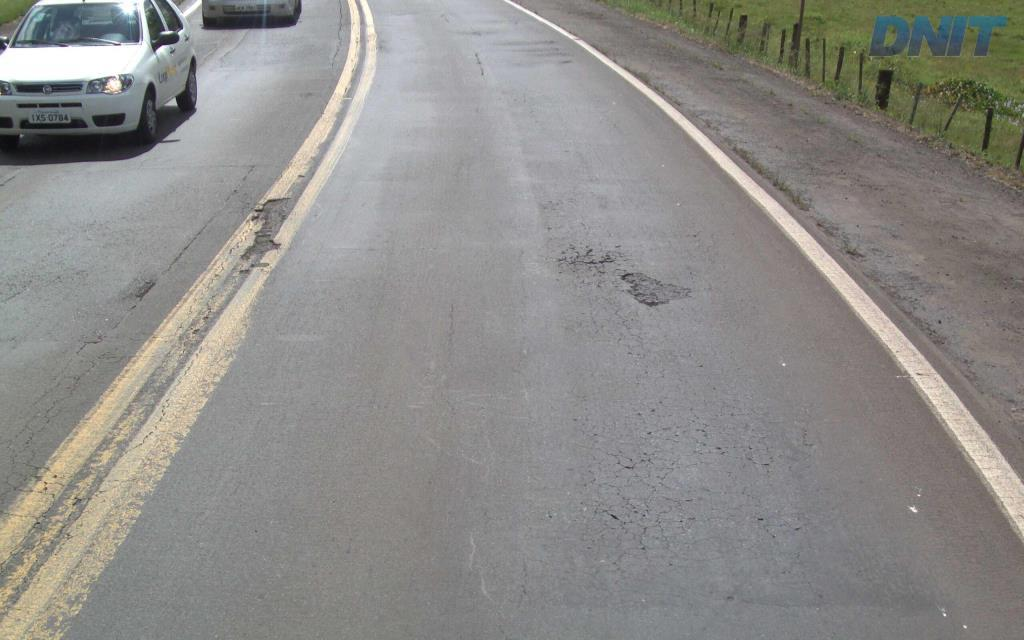crack: (612, 268, 691, 310), (556, 243, 625, 288)
